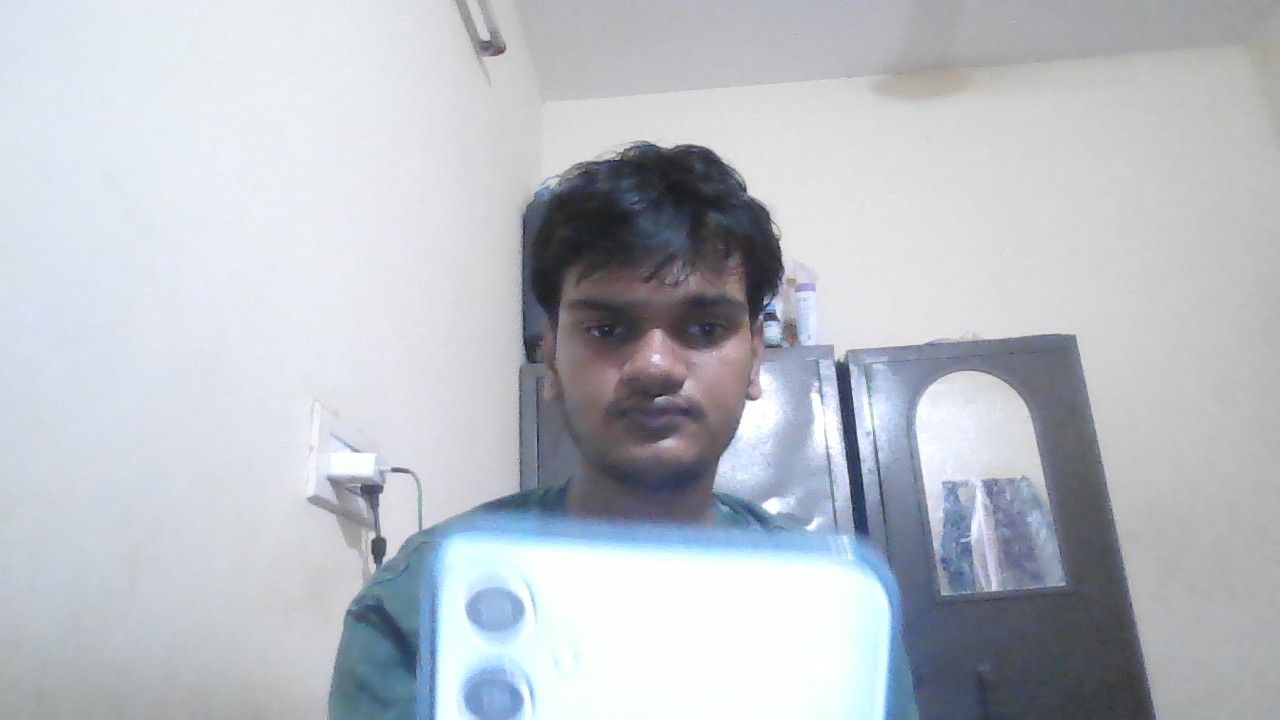phone: (429, 516, 891, 720)
